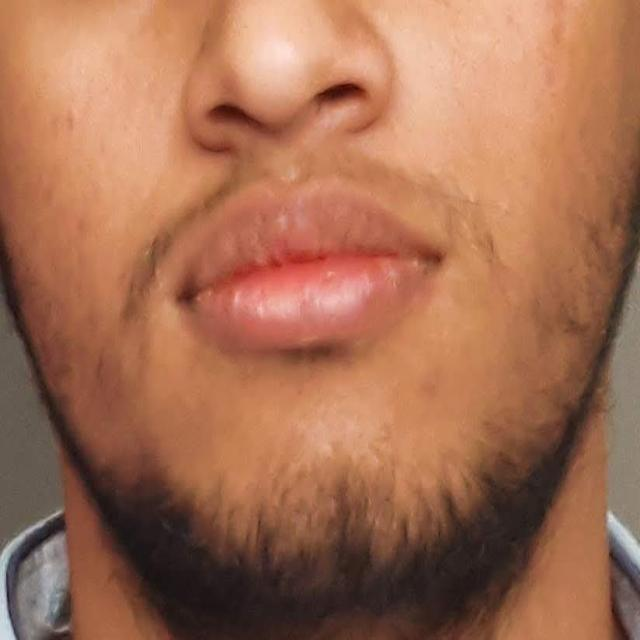normal_tongue: (132, 154, 471, 431)
